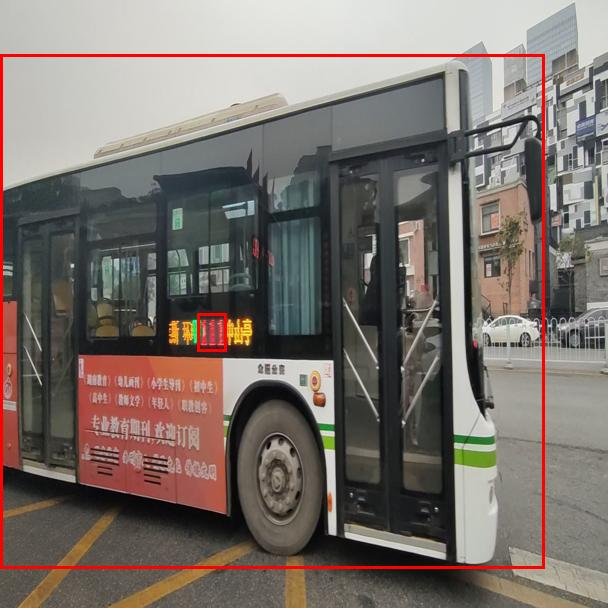bus: (0, 54, 544, 568)
screen: (197, 313, 226, 351)
